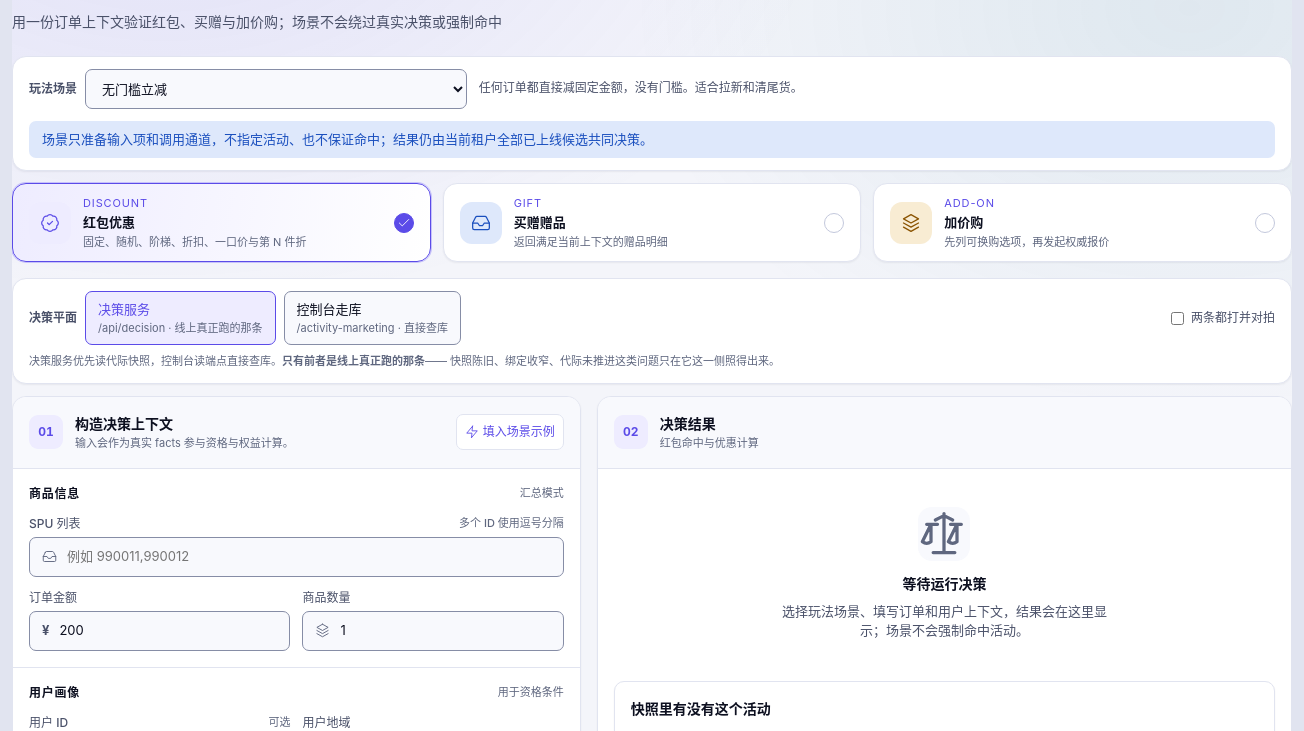
Test: ValidateView › 买赠通道展示赠品明细
Select "满额赠品" in the dropdown with test id "v-scenario" at (276, 88), box [85, 68, 467, 108]
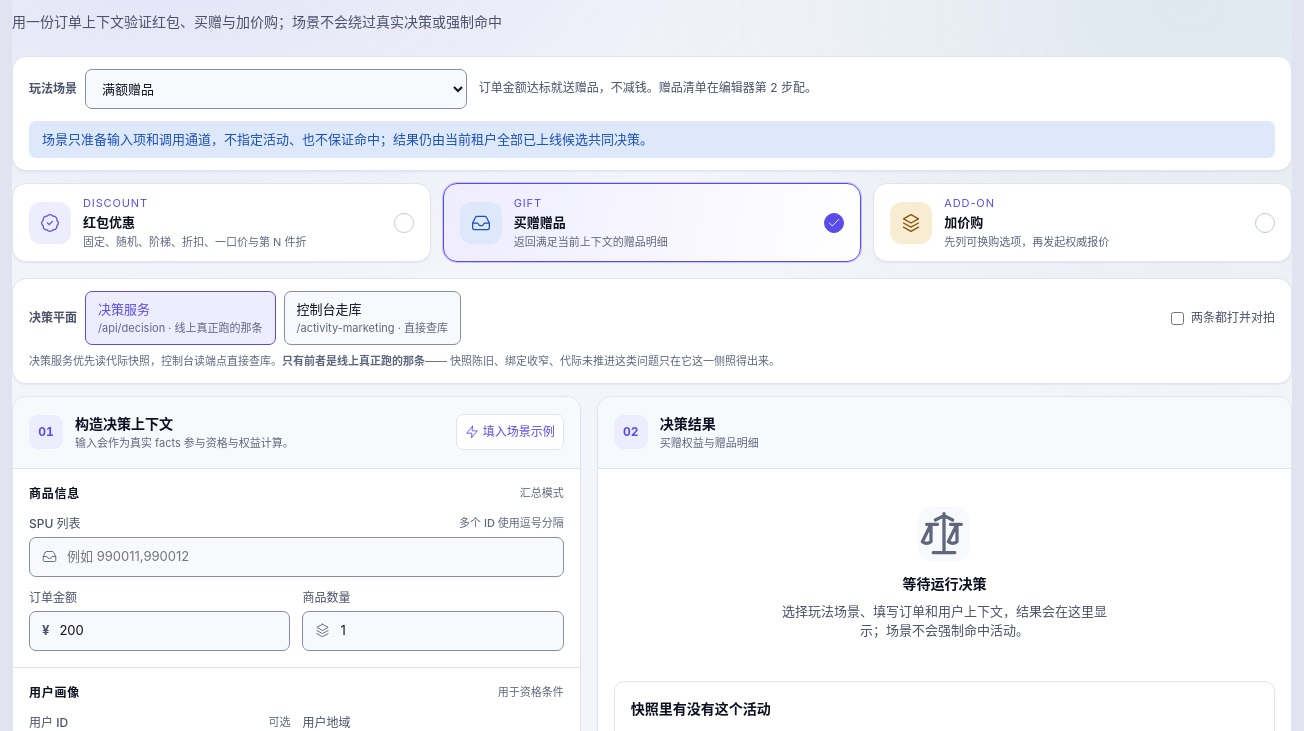
Type "990011" into the field with test id "v-spu".
click(308, 557); type("990011")  # box [65, 546, 551, 567]
(page scrolled)
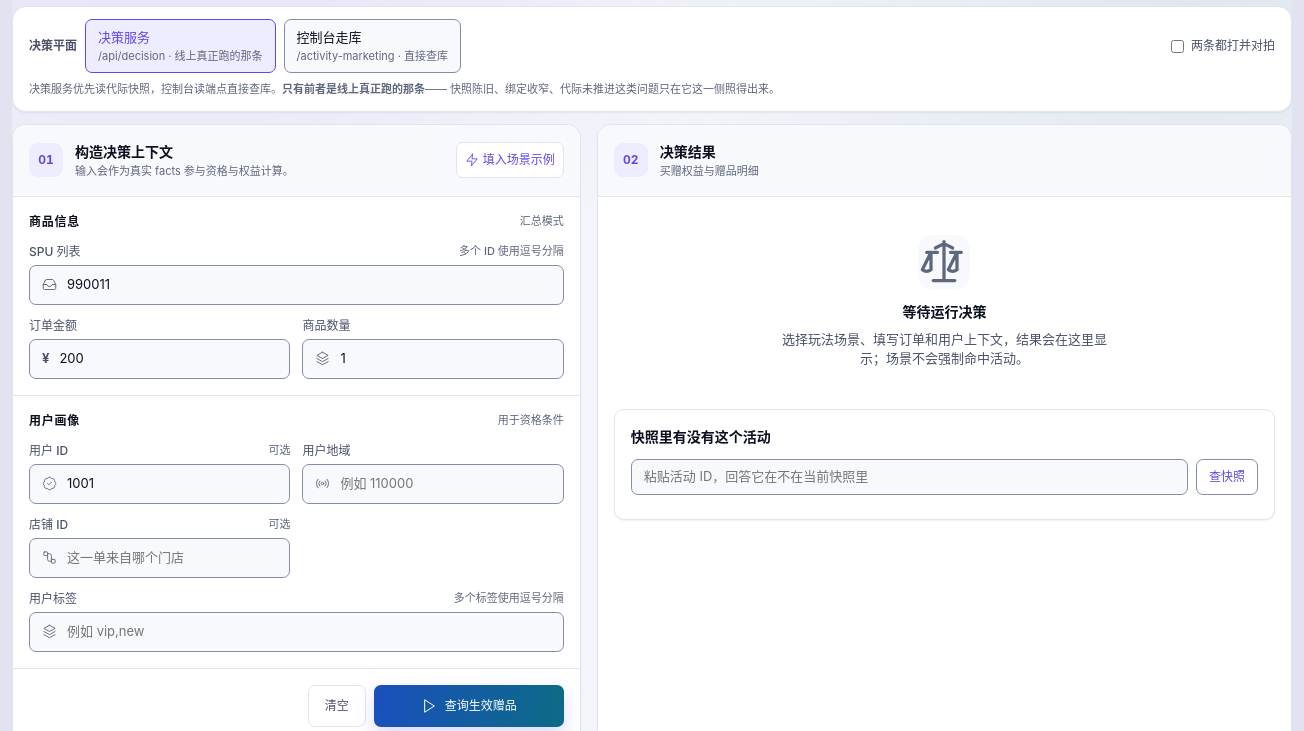
Click the button with test id "v-gifts".
click(469, 706)  # box [374, 685, 564, 727]
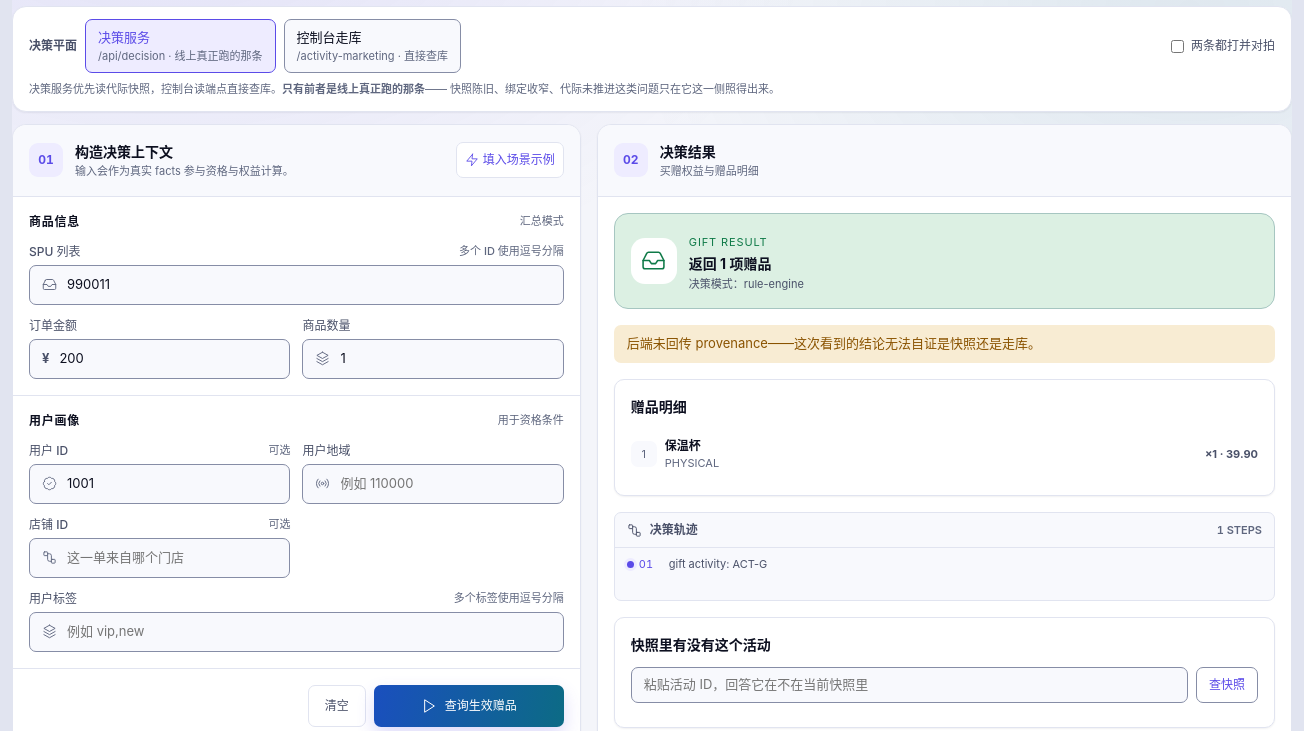
Result: the element with test id "validate-result" shows "返回 1 项赠品" at [689, 255, 772, 272]
Result: the text "保温杯" is shown at [665, 438, 701, 453]
